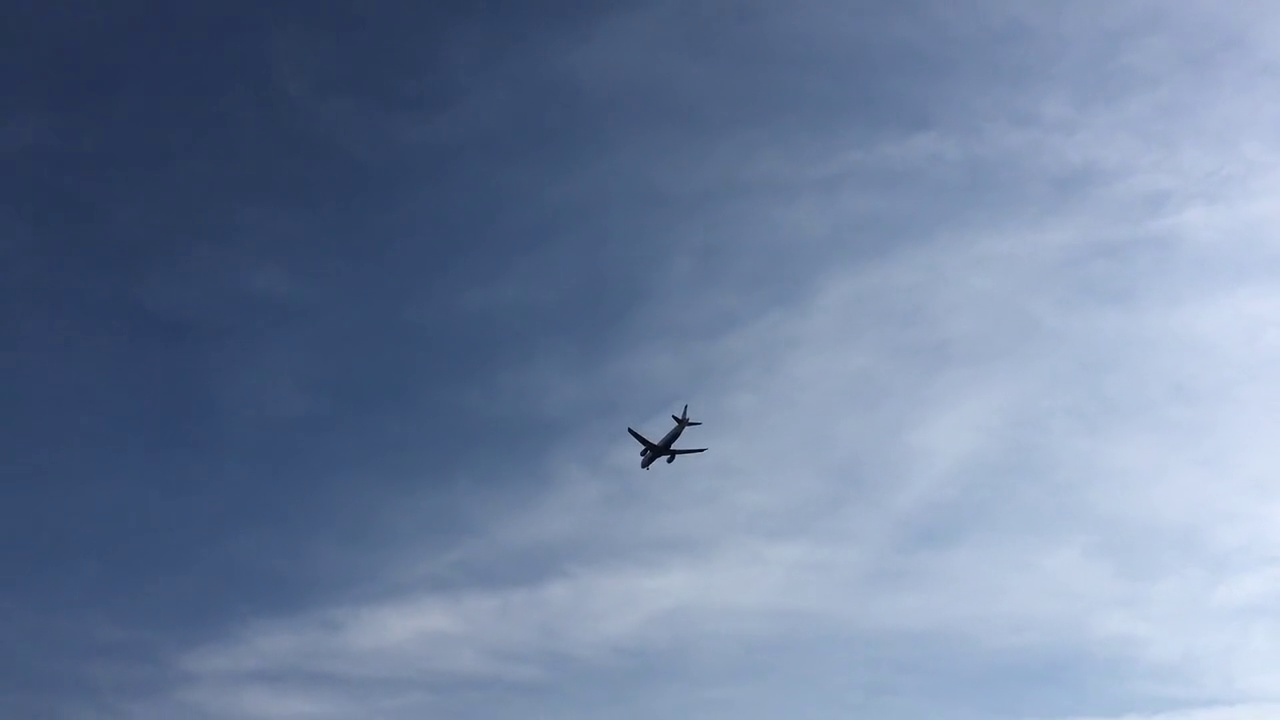plane: (627, 403, 707, 469)
